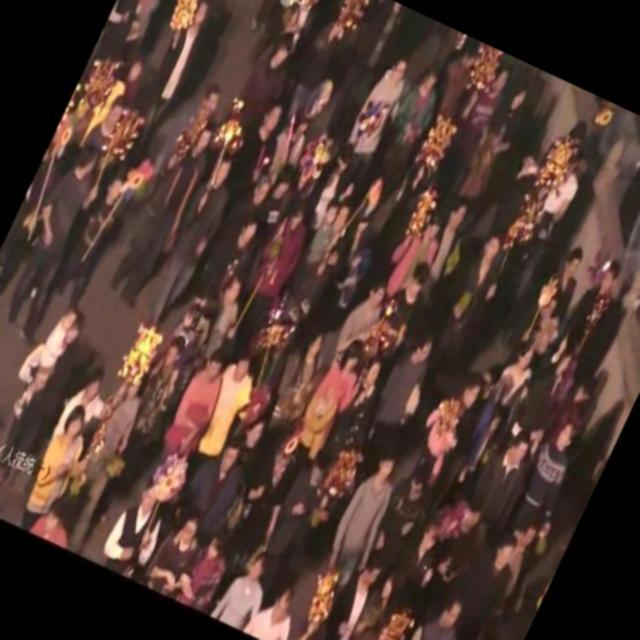person: (451, 108, 611, 360), (0, 133, 127, 351), (102, 110, 224, 314), (136, 142, 255, 339), (48, 364, 168, 552), (0, 297, 100, 513), (110, 0, 223, 183), (306, 432, 418, 607), (46, 147, 152, 320), (187, 168, 295, 334), (412, 347, 524, 505), (417, 226, 523, 387), (420, 52, 521, 216), (392, 192, 492, 350), (0, 120, 80, 316), (502, 233, 602, 389), (104, 328, 206, 480), (540, 257, 638, 408), (228, 196, 324, 350), (356, 324, 450, 473), (447, 76, 542, 222), (306, 358, 392, 508), (360, 453, 458, 582), (332, 48, 422, 188), (290, 330, 381, 461), (223, 161, 309, 299), (94, 463, 188, 589), (281, 188, 372, 318), (368, 59, 453, 198), (435, 522, 533, 640), (252, 452, 340, 582), (509, 411, 596, 542), (222, 439, 312, 564), (196, 168, 278, 298), (154, 348, 238, 474), (376, 196, 464, 314), (460, 424, 546, 540), (22, 398, 106, 516), (260, 323, 340, 443), (187, 350, 266, 471), (303, 541, 397, 640), (175, 428, 262, 534), (220, 95, 297, 207), (142, 498, 218, 606), (222, 98, 296, 204), (234, 22, 308, 125), (97, 0, 194, 72), (593, 120, 640, 262), (206, 548, 278, 638), (170, 528, 240, 620), (379, 583, 482, 640), (55, 361, 123, 446), (264, 97, 326, 188), (22, 483, 92, 556), (243, 577, 310, 640), (354, 594, 430, 640)
